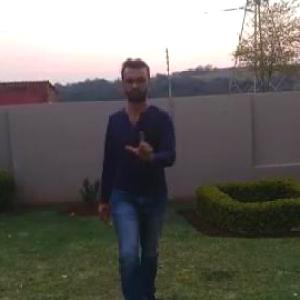land_hand: (122, 126, 161, 166)
